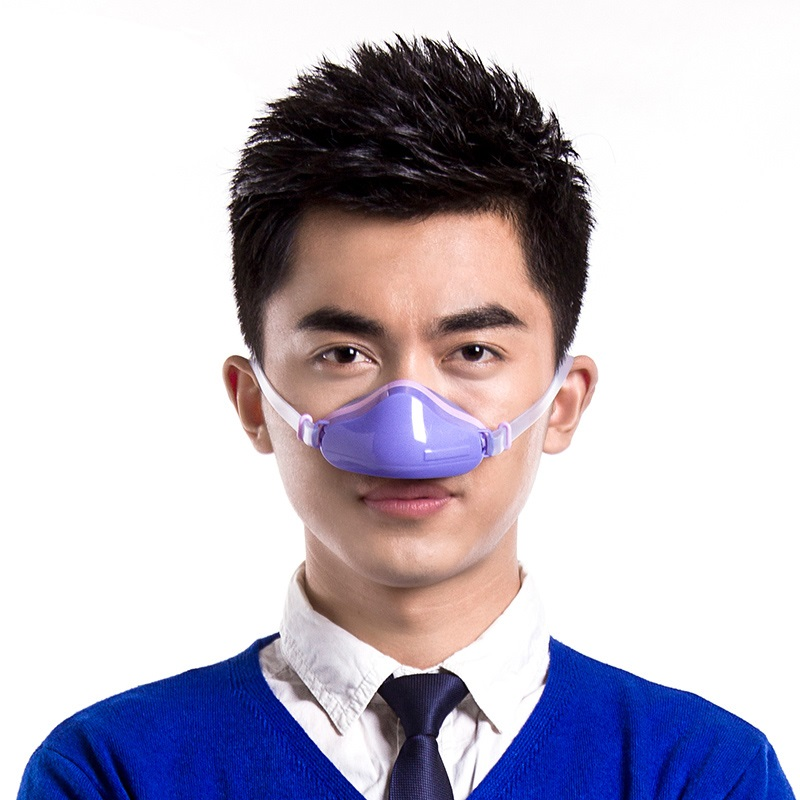face_mask: (264, 194, 550, 577)
